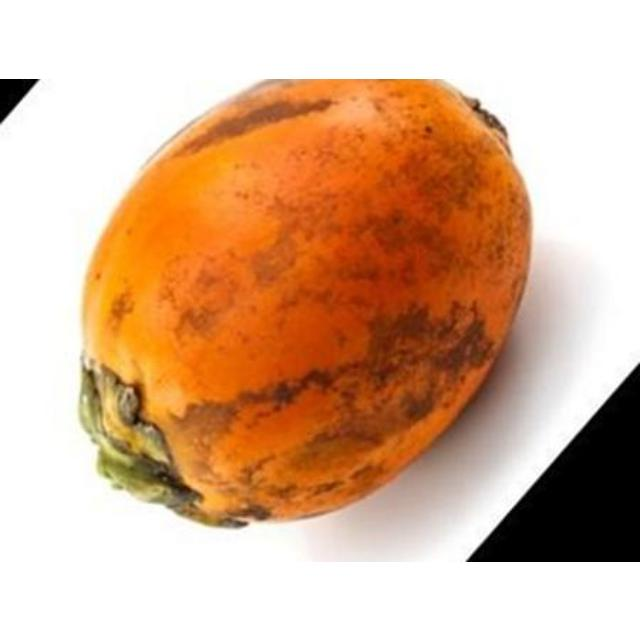good: (75, 78, 532, 530)
